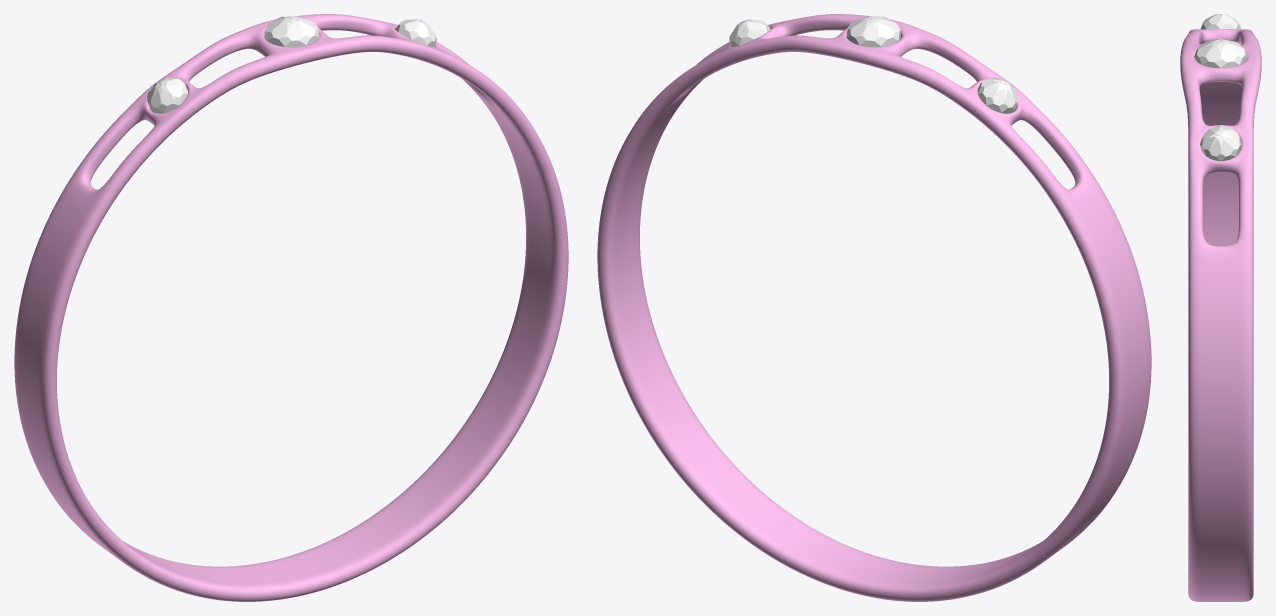
The model's file is threeGemRing.glb.
The picture shows the model from 3 angles, left to right: view 1: azimuth 30°, elevation 25°; view 2: azimuth 150°, elevation 25°; view 3: azimuth 270°, elevation 25°; orthographic projection. The views are drawn at different scales.
Visible parts, largest first — view 1: ring, smallGems, bigGem; view 2: ring, smallGems, bigGem; view 3: ring, smallGems, bigGem.
Boxes of the visible parts, x1,y1,x2,y2 form: ring: (14,14,568,601); smallGems: (147,19,436,113); bigGem: (264,16,319,46); ring: (597,14,1151,601); smallGems: (729,19,1018,113); bigGem: (846,16,901,46); ring: (1180,29,1261,601); smallGems: (1200,14,1241,161); bigGem: (1194,39,1247,68).
Size of the model in its own units: 2.11 by 2.17 by 0.3011.
